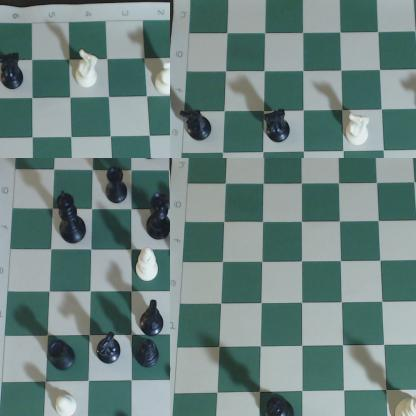black-bishop: (139, 337, 164, 373)
black-king: (57, 189, 88, 246), (265, 384, 301, 416)
black-knight: (178, 105, 213, 145), (262, 106, 294, 146), (1, 51, 27, 96), (138, 298, 165, 338), (96, 332, 124, 366)
black-pawn: (138, 159, 162, 167)
black-queen: (145, 192, 170, 242)
black-rook: (50, 334, 80, 376), (103, 166, 129, 208)
white-bishop: (133, 245, 162, 286)
white-king: (394, 391, 416, 416)
white-knight: (341, 108, 376, 150), (74, 46, 102, 91), (156, 59, 170, 98)
white-pawn: (56, 390, 74, 416)
